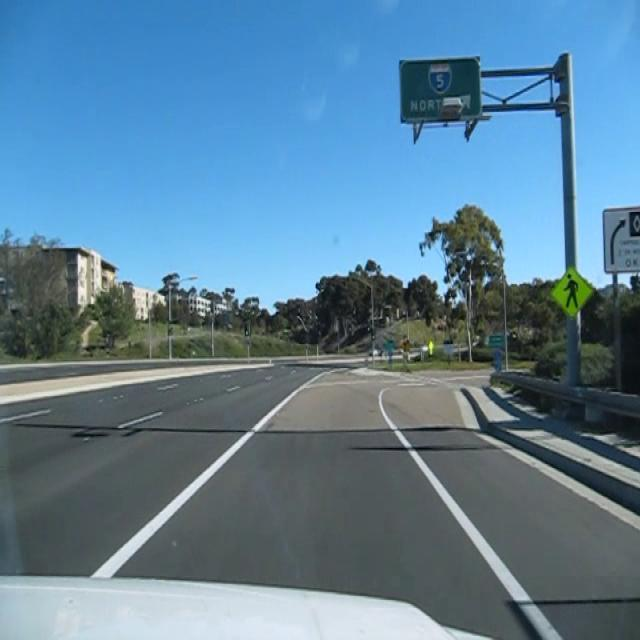pedestrianCrossing: (549, 263, 594, 320)
